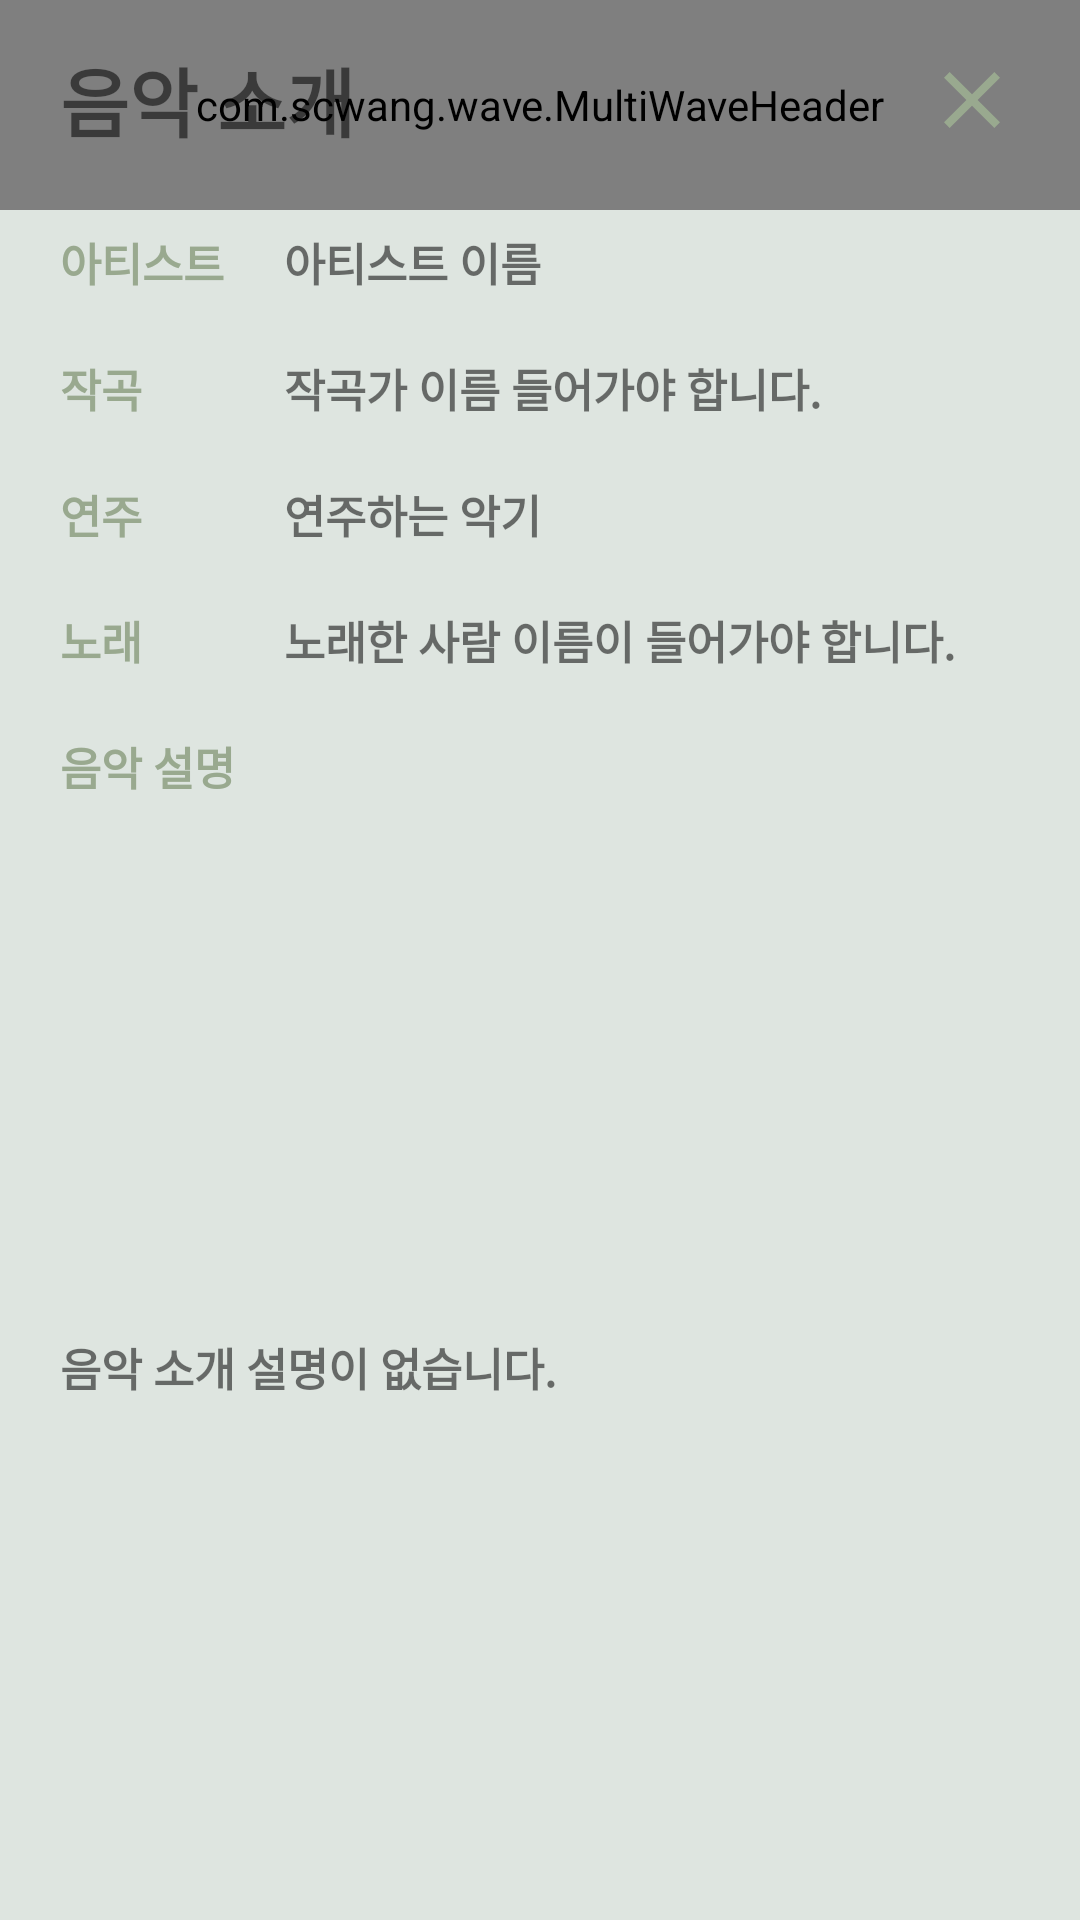

Screen size 1080x1920. Icon name, then its box in pixels as box(x1, y1, x2, y2):
clear: box(944, 72, 1000, 128)
